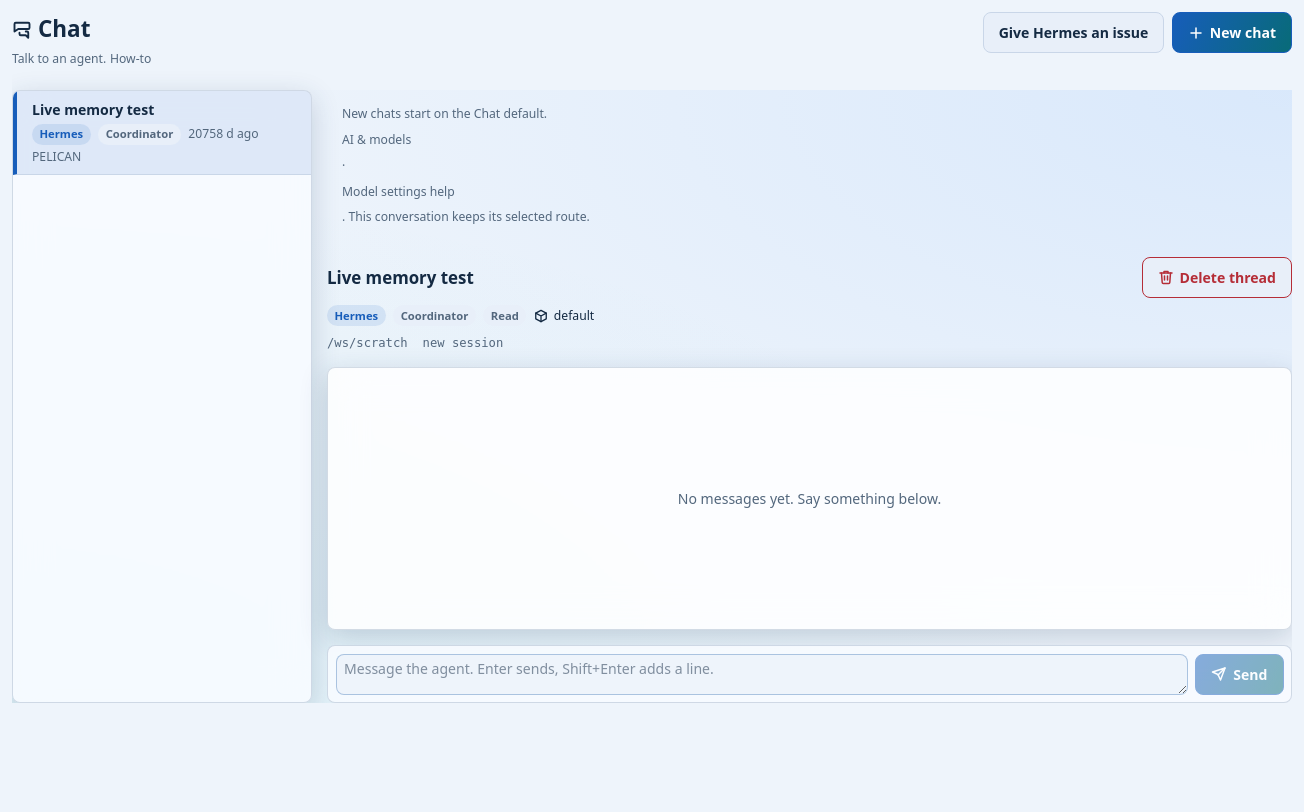
Chat view › shows a 409 detail inline and keeps the draft
Type "too soon" into the text box with id "composer-text".
click(762, 674); type("too soon")  # box [336, 654, 1188, 695]
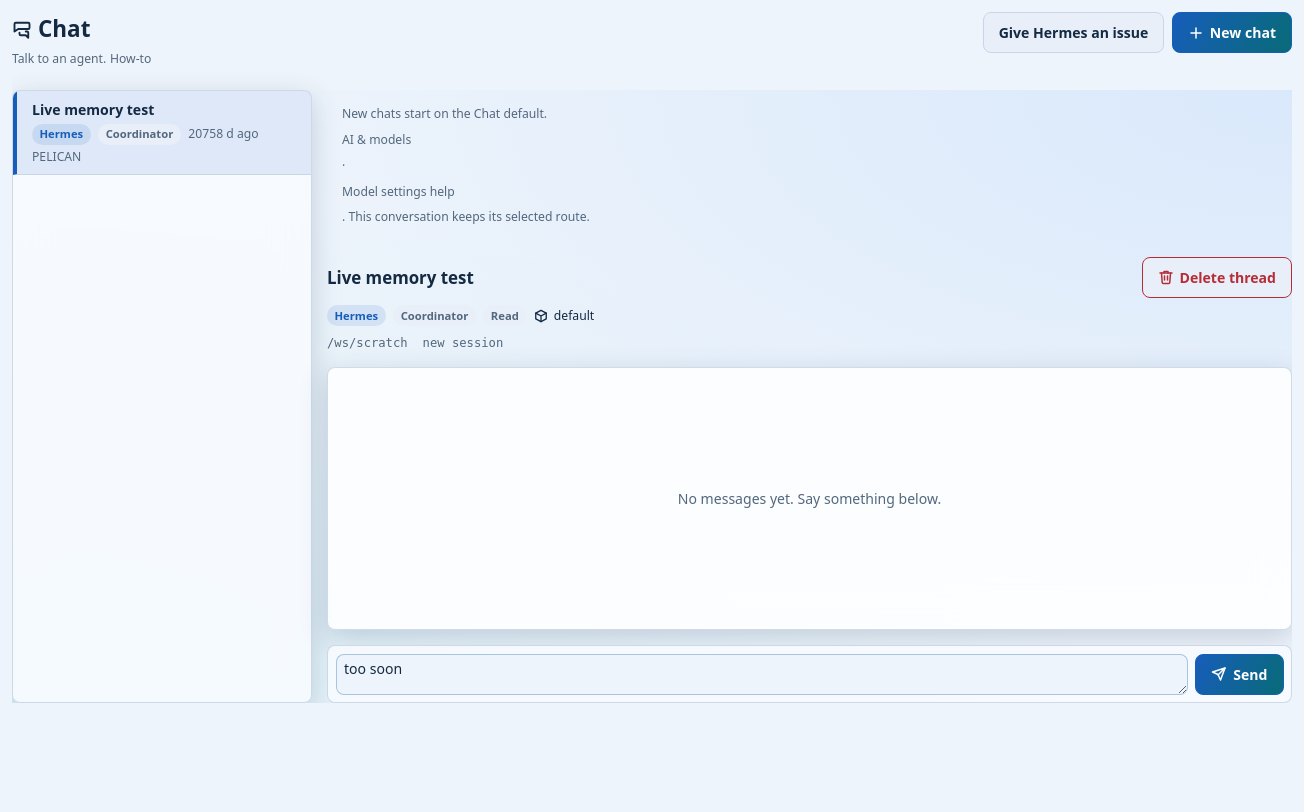
Submit the form with class "composer", box [327, 645, 1292, 703]
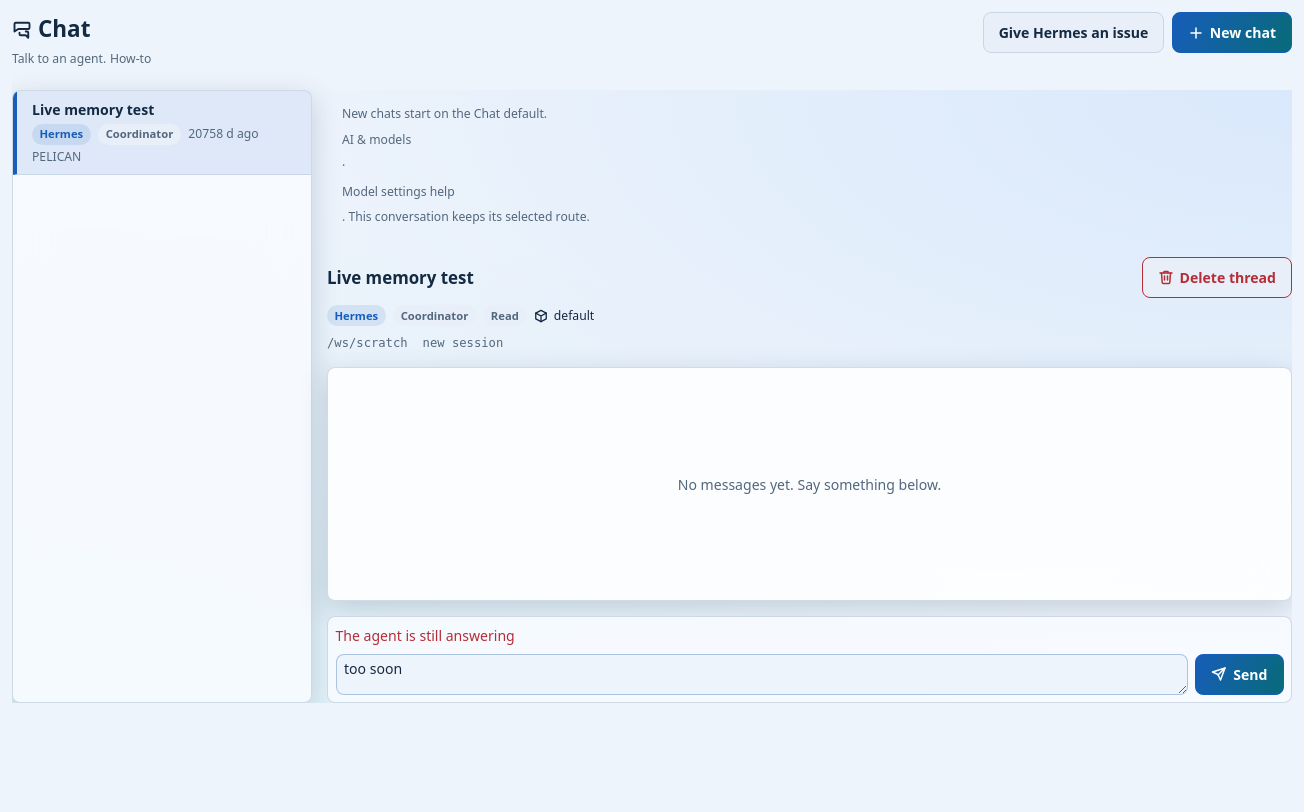
Check: the message with test id "action-error" reads "The agent is still answering", box [336, 626, 515, 645]
